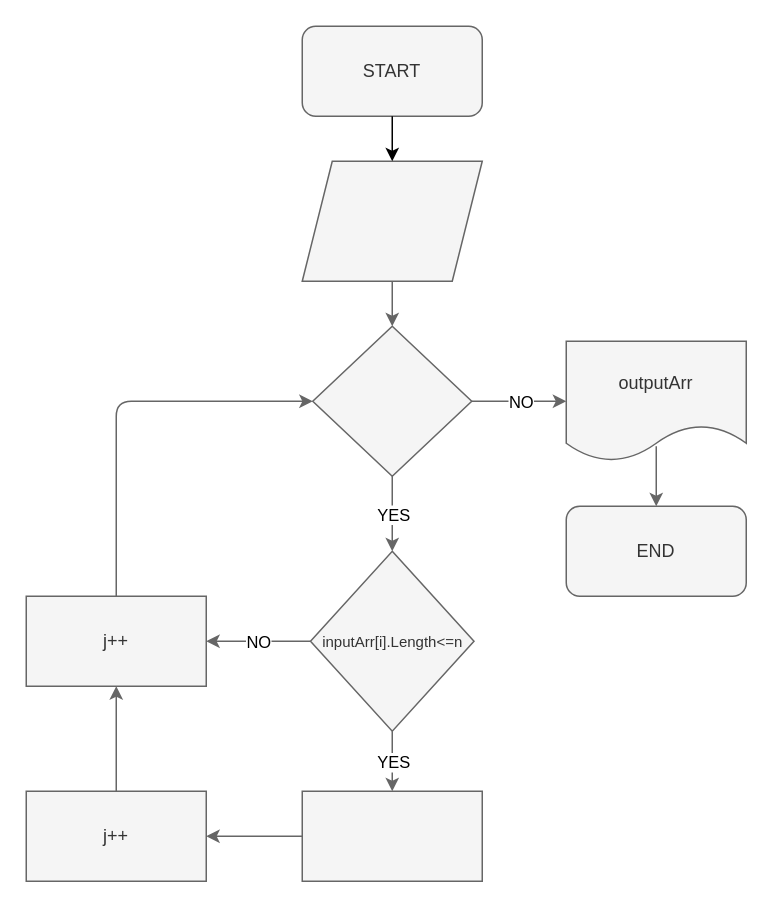
Some shapes in this 773 by 908 pixel diagram are drawn without their labels. The centre of each missing label's shape, as x and y in pixels:
i < inputArr.Length: [391,400]
outputArr[j] = inputArr[i]: [391,835]
string[] inputArr, string[] outputArr, int i =0, int j = 0, int n = 3: [391,220]
